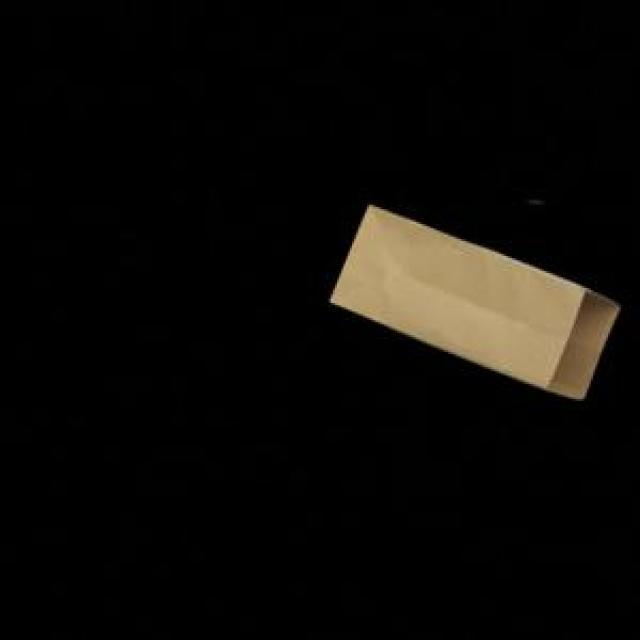paper: (326, 202, 614, 395)
